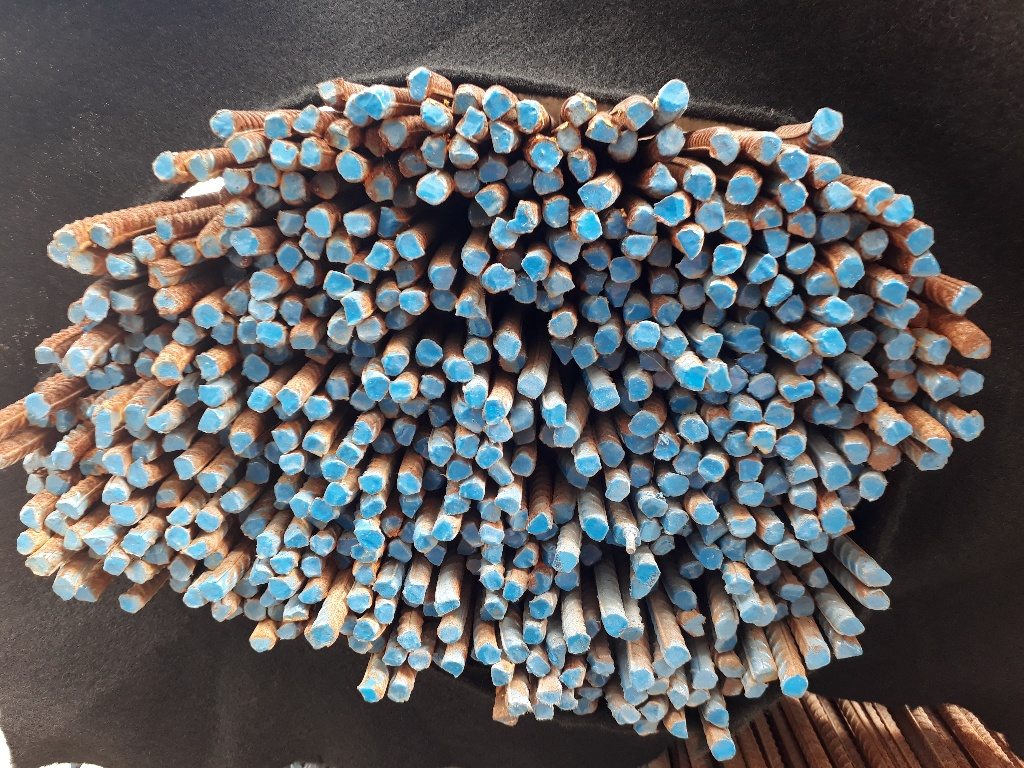dipstick: (455, 105, 488, 143), (657, 78, 690, 114), (47, 232, 80, 266), (335, 147, 365, 184), (529, 138, 562, 171), (420, 100, 452, 134), (762, 274, 795, 306), (813, 106, 844, 140), (656, 122, 686, 157), (480, 263, 515, 293), (819, 211, 852, 242), (652, 196, 685, 227), (448, 137, 479, 170), (711, 247, 745, 277), (577, 181, 612, 210), (609, 129, 638, 163), (507, 201, 536, 235), (379, 118, 408, 152), (728, 395, 763, 423), (483, 89, 513, 121), (627, 411, 661, 439), (694, 203, 725, 233), (567, 150, 597, 181), (268, 138, 298, 169), (883, 195, 915, 224), (779, 149, 808, 181), (725, 176, 757, 205), (710, 134, 739, 166), (487, 216, 516, 248), (460, 245, 489, 277), (172, 319, 206, 346), (416, 175, 446, 205), (363, 172, 393, 202), (778, 181, 807, 212), (750, 137, 781, 166), (748, 254, 779, 283), (866, 184, 894, 216), (957, 411, 985, 443), (575, 210, 603, 242), (248, 273, 280, 301), (420, 137, 447, 170), (621, 235, 656, 260), (905, 226, 934, 256), (953, 285, 982, 315), (891, 300, 920, 330), (825, 181, 855, 210), (628, 206, 657, 236), (683, 174, 714, 202), (649, 163, 677, 194), (631, 321, 659, 352), (720, 219, 752, 246), (541, 271, 575, 296), (406, 67, 431, 101), (354, 92, 383, 121), (304, 209, 333, 238), (848, 329, 878, 357), (510, 274, 538, 304), (309, 170, 337, 200), (884, 333, 915, 360), (556, 233, 583, 264), (478, 156, 509, 183), (323, 270, 354, 297), (125, 457, 152, 488), (532, 170, 564, 196), (507, 160, 533, 192), (676, 253, 709, 278), (586, 119, 619, 144), (546, 195, 571, 228), (860, 228, 889, 256), (845, 294, 873, 323), (675, 230, 704, 258), (521, 252, 549, 281), (415, 339, 443, 368), (837, 257, 864, 287), (707, 281, 737, 308), (566, 95, 596, 122), (153, 289, 183, 316), (883, 420, 914, 446), (302, 396, 333, 422), (376, 205, 401, 237), (281, 172, 306, 204), (925, 430, 953, 458), (610, 256, 638, 284), (493, 333, 521, 361), (230, 229, 258, 257), (23, 390, 51, 418), (788, 212, 817, 239), (778, 294, 805, 323), (680, 364, 709, 391), (315, 78, 344, 105), (81, 293, 108, 322), (454, 167, 480, 197), (289, 259, 315, 289), (747, 375, 778, 400), (708, 363, 733, 394), (210, 108, 235, 139), (517, 99, 541, 131), (489, 121, 513, 153), (846, 366, 879, 389), (963, 332, 991, 359), (746, 429, 774, 456), (662, 507, 689, 535), (726, 431, 753, 459), (709, 415, 737, 442), (460, 407, 488, 434), (325, 123, 353, 150), (328, 318, 356, 345), (859, 474, 885, 503), (786, 242, 815, 268), (765, 403, 794, 429), (679, 281, 705, 310), (603, 210, 629, 239), (581, 248, 610, 274), (275, 387, 301, 416), (443, 357, 473, 382), (779, 379, 813, 401), (869, 446, 900, 470), (455, 297, 486, 321), (152, 362, 183, 386), (624, 433, 656, 456), (299, 136, 322, 168), (736, 480, 763, 507), (398, 233, 425, 260), (241, 355, 268, 382), (821, 507, 847, 535), (827, 297, 853, 325), (390, 260, 416, 288), (365, 242, 391, 270), (293, 104, 319, 132), (283, 594, 309, 622), (256, 322, 284, 348), (648, 240, 673, 269), (550, 340, 575, 369), (517, 374, 546, 399), (556, 123, 581, 152), (310, 497, 339, 522), (299, 231, 324, 260), (193, 304, 222, 329), (196, 352, 221, 381), (879, 282, 909, 306), (637, 350, 667, 374), (545, 313, 575, 337), (534, 290, 566, 312), (814, 400, 841, 426), (681, 418, 707, 445), (277, 210, 304, 236), (276, 244, 302, 271), (164, 525, 191, 551), (776, 434, 804, 459), (821, 329, 846, 357), (552, 423, 580, 448), (428, 287, 456, 312), (343, 212, 371, 237), (248, 297, 276, 322), (227, 135, 252, 163), (960, 368, 984, 397), (855, 384, 879, 413), (863, 565, 892, 589), (763, 228, 787, 257), (624, 102, 653, 126), (344, 97, 368, 126), (65, 348, 89, 377), (910, 255, 940, 278), (650, 274, 680, 297), (152, 152, 175, 182), (892, 375, 918, 401), (652, 435, 678, 461), (223, 169, 249, 195), (825, 464, 852, 489), (697, 333, 724, 358), (657, 300, 684, 325), (587, 298, 612, 325), (392, 181, 417, 208), (399, 291, 426, 316), (356, 316, 381, 343), (52, 577, 79, 602), (793, 354, 825, 375), (736, 328, 764, 352), (594, 329, 618, 357), (341, 296, 364, 325), (107, 289, 136, 312), (140, 543, 169, 566), (590, 389, 620, 411), (483, 420, 513, 442), (464, 379, 486, 409), (659, 475, 690, 496), (738, 353, 769, 374), (928, 339, 953, 365), (698, 457, 724, 482), (736, 284, 762, 309), (381, 351, 407, 376), (370, 430, 396, 455), (335, 443, 361, 468), (246, 387, 272, 412), (121, 532, 147, 557), (816, 160, 840, 187), (788, 333, 812, 360), (552, 550, 579, 574), (476, 642, 503, 666), (452, 91, 479, 115), (469, 200, 493, 227), (463, 340, 490, 364), (428, 443, 455, 467), (399, 154, 426, 178), (132, 237, 156, 264), (754, 206, 782, 229), (719, 537, 747, 560), (270, 430, 298, 453), (237, 316, 260, 344), (197, 384, 225, 407), (66, 250, 94, 273), (605, 281, 630, 306), (455, 434, 480, 459), (396, 471, 421, 496), (682, 611, 706, 637), (584, 517, 610, 541), (598, 443, 624, 467), (559, 666, 585, 690), (554, 569, 580, 593), (364, 377, 390, 401), (310, 624, 334, 650), (280, 300, 304, 326), (253, 162, 279, 186), (105, 255, 131, 279), (625, 378, 652, 401), (512, 452, 535, 479), (185, 154, 208, 181), (917, 451, 948, 471), (931, 378, 959, 400), (447, 459, 475, 481), (147, 261, 169, 289), (354, 528, 383, 549), (264, 345, 293, 366), (885, 360, 915, 380), (834, 404, 858, 429), (797, 518, 822, 542), (571, 345, 596, 369), (490, 709, 520, 729), (508, 405, 533, 429), (420, 375, 444, 400), (326, 376, 350, 401), (170, 242, 195, 266), (54, 409, 79, 433), (665, 645, 691, 668), (663, 337, 689, 360), (542, 404, 568, 427), (550, 502, 576, 525), (413, 530, 439, 553), (327, 239, 353, 262), (278, 452, 304, 475), (808, 274, 835, 296), (345, 263, 372, 285), (164, 505, 191, 527), (366, 127, 385, 158), (728, 517, 756, 538), (474, 448, 503, 468), (498, 352, 527, 372), (806, 646, 830, 670), (305, 295, 329, 319), (197, 233, 221, 257), (197, 410, 221, 434), (844, 440, 869, 463), (737, 459, 762, 482), (699, 547, 724, 570), (583, 272, 606, 297), (487, 460, 510, 485), (389, 380, 414, 403), (309, 533, 334, 556), (122, 405, 145, 430), (123, 561, 148, 584), (793, 490, 819, 512), (701, 303, 727, 325), (349, 389, 375, 411), (526, 574, 553, 595), (269, 554, 296, 575), (672, 452, 700, 472), (478, 523, 506, 543), (306, 344, 334, 364), (711, 738, 735, 761), (628, 464, 652, 487), (653, 369, 676, 393), (423, 543, 446, 567), (432, 267, 456, 290), (264, 115, 288, 138), (229, 432, 252, 456), (88, 225, 112, 248), (95, 410, 119, 433), (605, 479, 630, 501), (505, 642, 530, 664), (323, 484, 348, 506), (301, 435, 326, 457), (223, 293, 248, 315), (211, 319, 233, 344), (244, 463, 269, 485), (782, 676, 808, 697), (820, 379, 841, 405), (706, 483, 732, 504), (602, 615, 628, 636), (574, 453, 600, 474), (502, 528, 528, 549), (357, 473, 383, 494), (145, 411, 171, 432), (762, 475, 789, 495), (691, 670, 718, 690), (726, 367, 746, 394), (400, 399, 427, 419), (321, 460, 348, 480), (427, 404, 450, 427), (526, 512, 550, 534), (499, 250, 523, 272), (435, 595, 459, 617), (408, 649, 432, 671), (396, 423, 418, 447), (388, 541, 412, 563), (376, 289, 400, 311), (248, 563, 272, 585), (254, 535, 276, 559), (256, 186, 280, 208), (101, 453, 123, 477), (773, 540, 798, 561), (652, 657, 677, 678), (461, 522, 482, 547), (396, 630, 421, 651), (352, 420, 373, 445), (19, 507, 40, 532), (755, 566, 781, 586), (749, 550, 775, 570), (110, 504, 136, 524), (792, 465, 819, 484), (670, 396, 697, 415), (625, 304, 652, 323), (155, 217, 174, 244), (118, 314, 145, 333), (80, 537, 107, 556), (637, 565, 660, 587), (469, 316, 492, 338), (420, 468, 442, 491), (402, 582, 425, 604), (838, 486, 862, 507), (640, 701, 664, 722), (616, 527, 640, 548), (567, 634, 591, 655), (512, 547, 536, 568), (460, 480, 484, 501), (386, 683, 410, 704), (381, 513, 402, 537), (346, 593, 370, 614), (194, 511, 218, 532), (143, 334, 171, 352), (169, 558, 193, 579), (51, 449, 75, 470), (866, 590, 891, 610), (615, 703, 640, 723), (650, 535, 675, 555), (553, 689, 578, 709), (527, 656, 552, 676), (240, 520, 265, 540), (233, 578, 258, 598), (102, 555, 127, 575), (85, 369, 110, 389), (839, 617, 865, 636), (671, 590, 697, 609), (685, 688, 711, 707), (633, 718, 659, 737), (249, 633, 275, 652), (79, 457, 105, 476), (708, 707, 730, 729), (522, 623, 544, 645), (431, 519, 453, 541), (300, 556, 322, 578), (172, 458, 194, 480), (808, 566, 829, 589), (598, 352, 621, 373), (502, 581, 525, 602), (480, 542, 503, 563), (484, 400, 505, 423), (268, 578, 291, 599), (244, 600, 267, 621), (108, 343, 131, 364), (45, 474, 68, 495), (496, 494, 520, 514), (744, 309, 769, 328), (573, 697, 598, 716), (361, 499, 386, 518), (371, 581, 396, 600), (348, 636, 373, 655), (155, 489, 180, 508), (789, 598, 815, 616), (351, 544, 377, 562), (34, 347, 60, 365), (54, 502, 80, 520), (24, 557, 50, 575), (806, 532, 827, 554), (763, 523, 785, 544), (640, 522, 661, 544), (582, 545, 603, 567), (505, 694, 527, 715), (480, 500, 501, 522), (401, 498, 423, 519), (274, 482, 295, 504), (299, 584, 322, 604), (117, 594, 140, 614), (100, 488, 127, 505), (680, 560, 704, 579), (629, 669, 653, 688), (529, 599, 553, 618), (491, 664, 510, 688), (437, 624, 461, 643), (383, 311, 407, 330), (200, 581, 224, 600), (211, 603, 235, 622), (63, 527, 82, 551), (44, 517, 68, 536), (779, 583, 804, 601), (642, 498, 667, 516), (549, 644, 567, 669), (445, 498, 470, 516), (352, 339, 377, 357), (183, 589, 208, 607), (162, 434, 187, 452), (482, 571, 503, 592), (354, 564, 375, 585), (742, 603, 764, 623), (16, 533, 36, 555), (668, 687, 687, 710), (134, 357, 153, 380), (22, 453, 45, 472), (720, 658, 744, 676), (591, 659, 615, 677), (535, 686, 559, 704), (289, 333, 316, 349), (727, 578, 752, 595), (228, 250, 253, 267), (576, 686, 604, 701), (382, 647, 403, 667), (353, 621, 374, 641), (289, 498, 309, 519), (441, 659, 463, 678), (375, 602, 394, 624), (336, 537, 358, 556), (196, 473, 218, 492), (131, 441, 150, 463), (67, 302, 86, 324), (628, 579, 651, 597), (252, 252, 275, 270), (176, 388, 199, 406), (531, 704, 555, 721), (837, 643, 862, 659), (789, 551, 814, 567), (103, 365, 123, 385), (260, 587, 281, 606), (715, 619, 738, 636), (357, 686, 380, 703), (276, 623, 299, 640), (755, 606, 774, 626), (266, 442, 285, 462), (753, 668, 780, 682), (339, 615, 357, 636), (304, 458, 322, 479), (219, 495, 240, 513), (124, 334, 145, 352), (26, 474, 44, 495), (625, 686, 647, 703), (536, 524, 558, 541), (704, 389, 727, 405), (414, 437, 430, 460), (184, 543, 207, 559), (723, 677, 742, 696), (333, 553, 353, 571), (745, 681, 766, 698), (74, 586, 95, 603), (400, 521, 416, 543), (285, 533, 308, 548), (540, 429, 557, 449), (275, 404, 295, 421), (219, 226, 236, 246), (621, 624, 642, 640), (513, 429, 534, 445), (327, 340, 351, 354), (93, 431, 114, 447), (646, 680, 668, 695), (240, 442, 262, 457), (687, 471, 705, 489), (487, 603, 505, 621), (350, 357, 368, 375), (267, 602, 285, 620), (670, 720, 689, 737), (365, 635, 384, 652), (714, 637, 738, 650), (26, 414, 50, 427), (762, 492, 784, 506), (586, 673, 608, 687), (169, 578, 191, 592), (582, 620, 599, 638), (204, 552, 223, 568), (457, 539, 476, 554), (676, 519, 692, 536), (226, 605, 243, 621), (773, 602, 788, 620), (422, 603, 440, 618), (128, 428, 152, 439), (339, 515, 354, 531), (481, 610, 496, 624), (467, 559, 480, 575)
